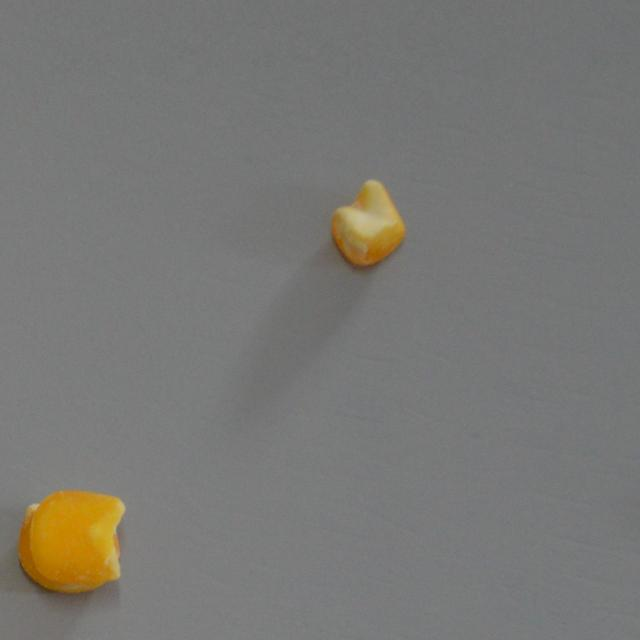pelicula: (14, 485, 127, 597), (327, 176, 407, 272)
